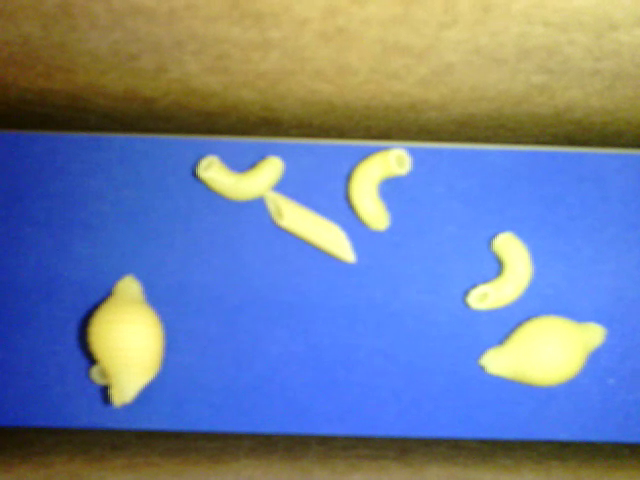elbow: (346, 145, 413, 231), (463, 231, 534, 311), (195, 153, 286, 202), (88, 362, 111, 385)
penne: (261, 189, 357, 265)
shell: (86, 272, 164, 407), (477, 312, 610, 388)
